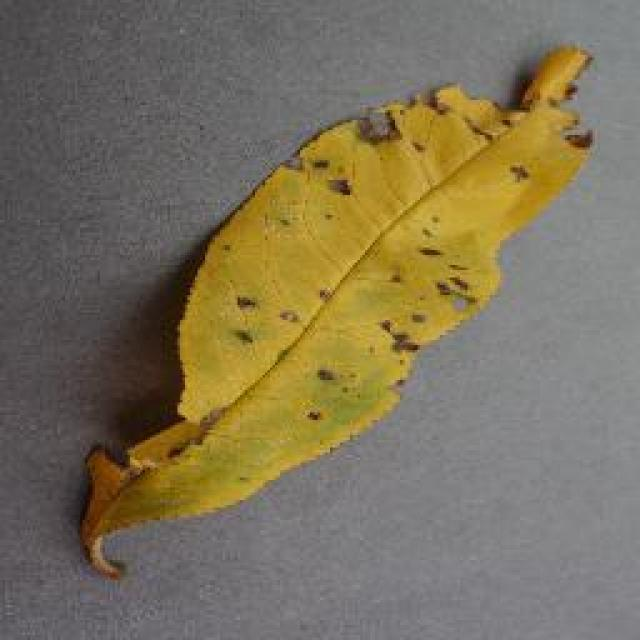Peach_Bacterial_Spot: (238, 102, 610, 408)
